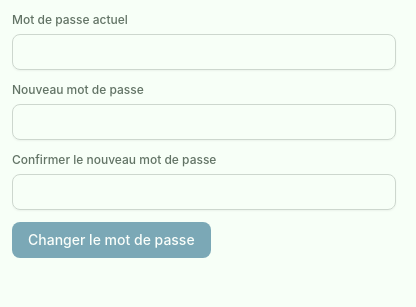
it: ChangePasswordForm › shows the backend's message on a wrong current password
Type "wrong-password" into the password field labelled "Mot de passe actuel" at [204, 52], box [12,34,396,70]
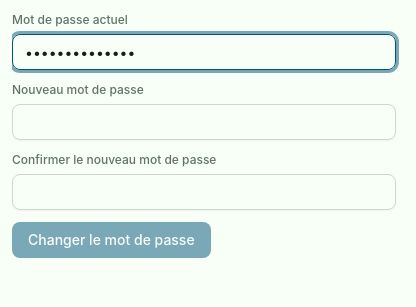
Type "new-password-1" into the password field labelled "Nouveau mot de passe" at [204, 122], box [12,104,396,140]
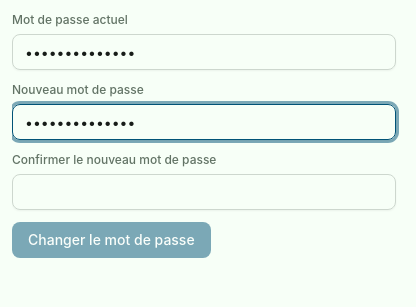
Type "new-password-1" into the password field labelled "Confirmer le nouveau mot de passe" at [204, 192], box [12,174,396,210]
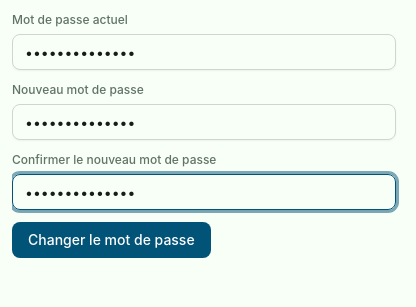
Click the button "Changer le mot de passe" at [111, 240], box [12,222,211,258]
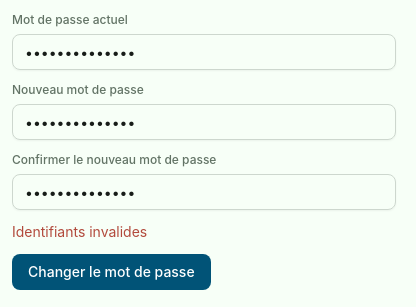
Check: the text "Identifiants invalides" is shown, box [12,223,147,240]
